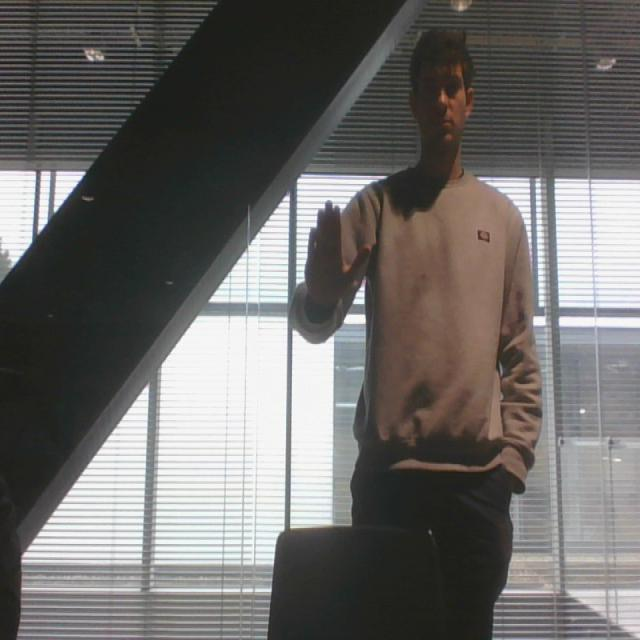backward: (300, 191, 377, 322)
